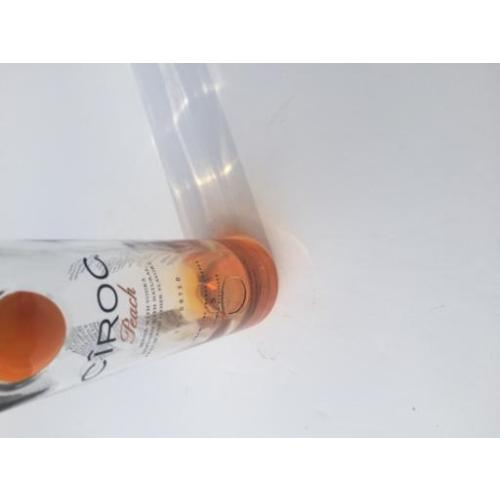glass: (0, 237, 274, 403)
